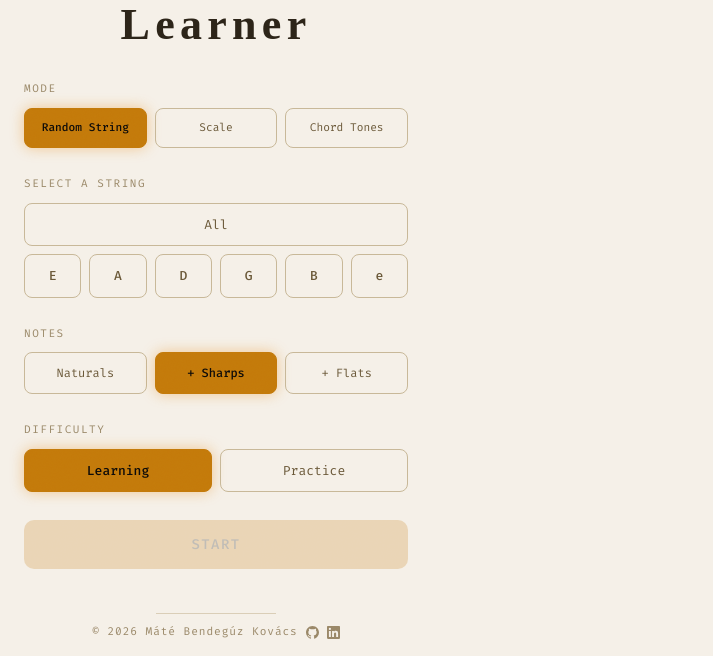
Test: ModeSelector — scale picker › renders all 7 scale type buttons when Scale mode is active
Click the button "Scale" at coordinates (216, 128), box left=155, top=108, right=277, bottom=148
(page scrolled)
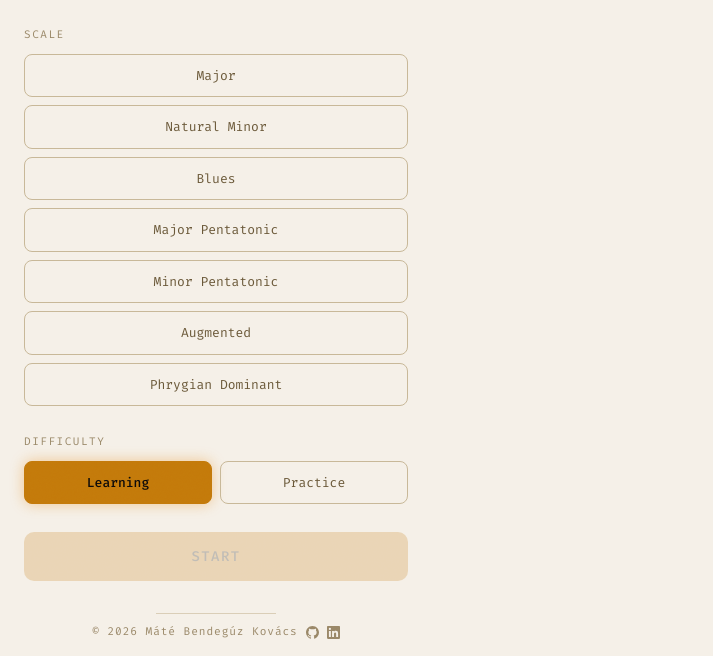
Expected: the button "Major" is shown, left=24, top=54, right=408, bottom=97
Expected: the button "Natural Minor" is shown, left=24, top=105, right=408, bottom=149
Expected: the button "Augmented" is shown, left=24, top=311, right=408, bottom=355
